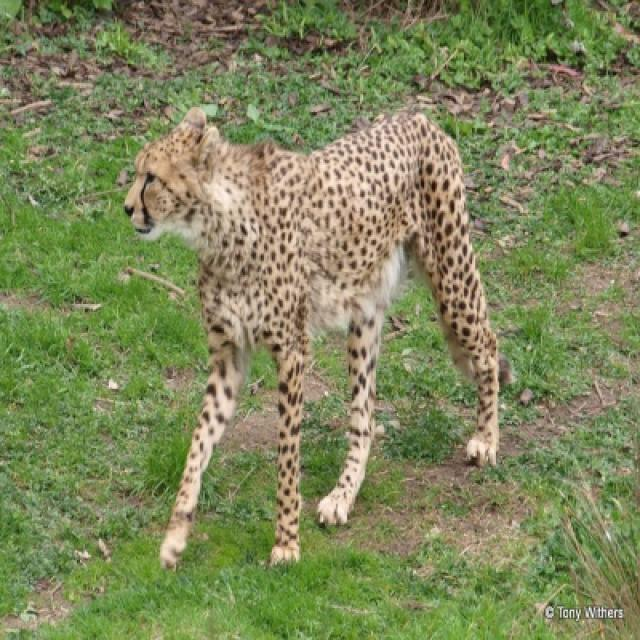Cheetah: (123, 109, 512, 573)
